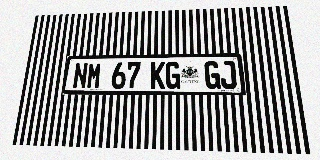6: (111, 62, 127, 89)
7: (126, 62, 141, 89)
G: (204, 61, 221, 89), (166, 61, 180, 89)
J: (220, 61, 237, 89)
K: (150, 62, 165, 89)
M: (86, 62, 102, 89)
N: (72, 63, 88, 89)
